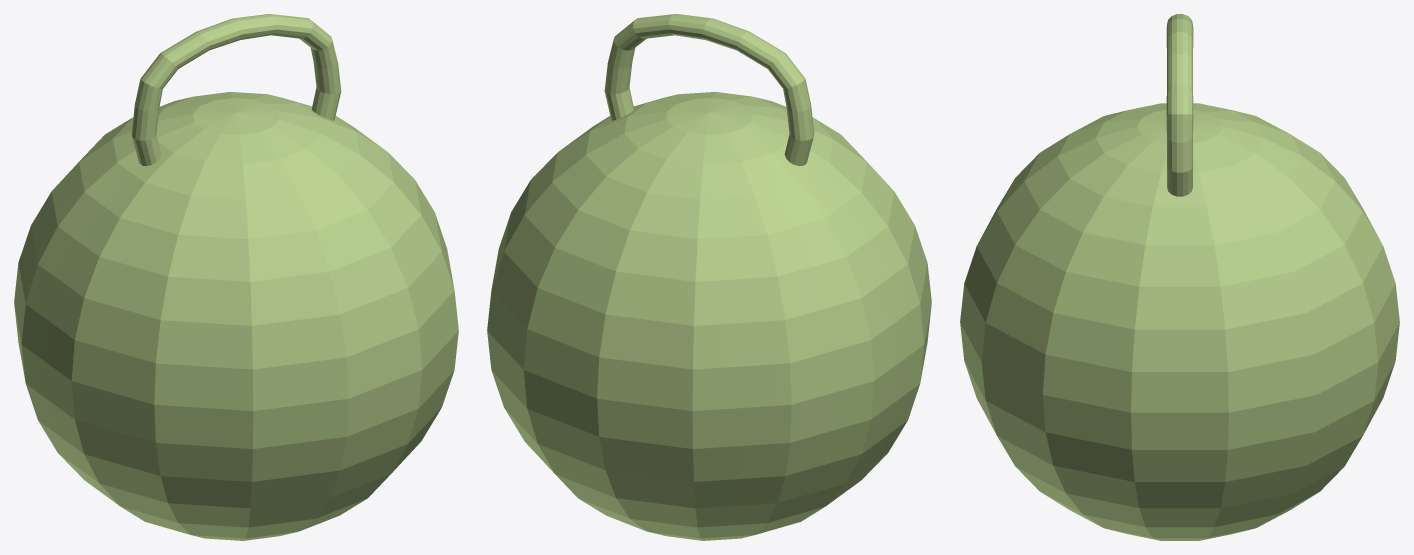
The model's file is dumbbells_3.fbx.
3 views of the same model, side by side, from view 1: azimuth 30°, elevation 25°; view 2: azimuth 150°, elevation 25°; view 3: azimuth 270°, elevation 25° (orthographic). The views are drawn at different scales.
Parts seen in each view (by area): view 1: Sphere; view 2: Sphere; view 3: Sphere.
Part boxes in pixels (<box>): Sphere: <box>14,14,458,540</box>; Sphere: <box>487,14,931,540</box>; Sphere: <box>960,14,1399,540</box>.
Bounding box in the file's own units: 140 × 176 × 143.
1 material, 1 textured.
